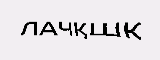А: (38, 21, 57, 37)
К: (122, 21, 143, 41)
Л: (18, 21, 39, 37)
Ч: (57, 20, 73, 37)
Ш: (89, 21, 121, 38)
Қ: (73, 21, 88, 40)
